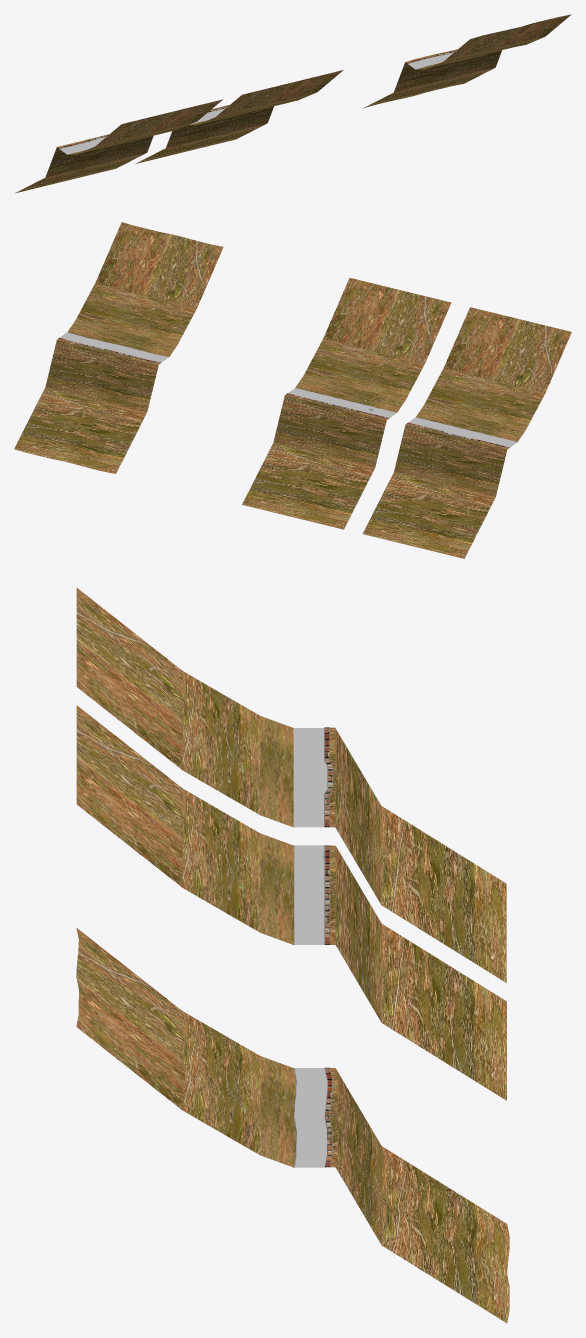
Rendered from Level 1 .fbx.
3 views of the same model, one above another, from view 1: azimuth 30°, elevation 25°; view 2: azimuth 150°, elevation 25°; view 3: azimuth 270°, elevation 25° (orthographic). The views are drawn at different scales.
Parts seen in each view (by area): view 1: Plane.005, Plane.006, Plane.002, Plane.009, Plane.007, Plane.003, Plane.008, Plane.004; view 2: Plane.003, Plane.007, Plane.009, Plane.002, Plane.006, Plane.005, Plane.008, Plane.004, Plane.001; view 3: Plane.007, Plane.003, Plane.009, Plane.006, Plane.002, Plane.005, Plane.004, Plane.008, Plane.001.
Part boxes in pixels (bbox=[...]): Plane.005: bbox=[15, 134, 153, 193]; Plane.006: bbox=[363, 49, 501, 108]; Plane.002: bbox=[135, 105, 273, 163]; Plane.009: bbox=[417, 14, 571, 69]; Plane.007: bbox=[189, 70, 343, 125]; Plane.003: bbox=[68, 99, 222, 154]; Plane.008: bbox=[408, 52, 453, 69]; Plane.004: bbox=[60, 138, 104, 154]; Plane.003: bbox=[416, 307, 571, 441]; Plane.007: bbox=[295, 278, 451, 412]; Plane.009: bbox=[67, 222, 223, 356]; Plane.002: bbox=[242, 393, 389, 529]; Plane.006: bbox=[14, 337, 161, 473]; Plane.005: bbox=[363, 422, 509, 558]; Plane.008: bbox=[60, 332, 168, 362]; Plane.004: bbox=[408, 417, 517, 447]; Plane.001: bbox=[288, 388, 396, 417]; Plane.007: bbox=[76, 705, 293, 944]; Plane.003: bbox=[76, 588, 293, 827]; Plane.009: bbox=[76, 927, 295, 1167]; Plane.006: bbox=[324, 1067, 509, 1322]; Plane.002: bbox=[324, 845, 506, 1100]; Plane.005: bbox=[324, 727, 506, 982]; Plane.004: bbox=[293, 728, 325, 827]; Plane.008: bbox=[293, 1068, 327, 1167]; Plane.001: bbox=[293, 845, 324, 944].
Size of the model in its own units: 14920 by 4693 by 6215.
